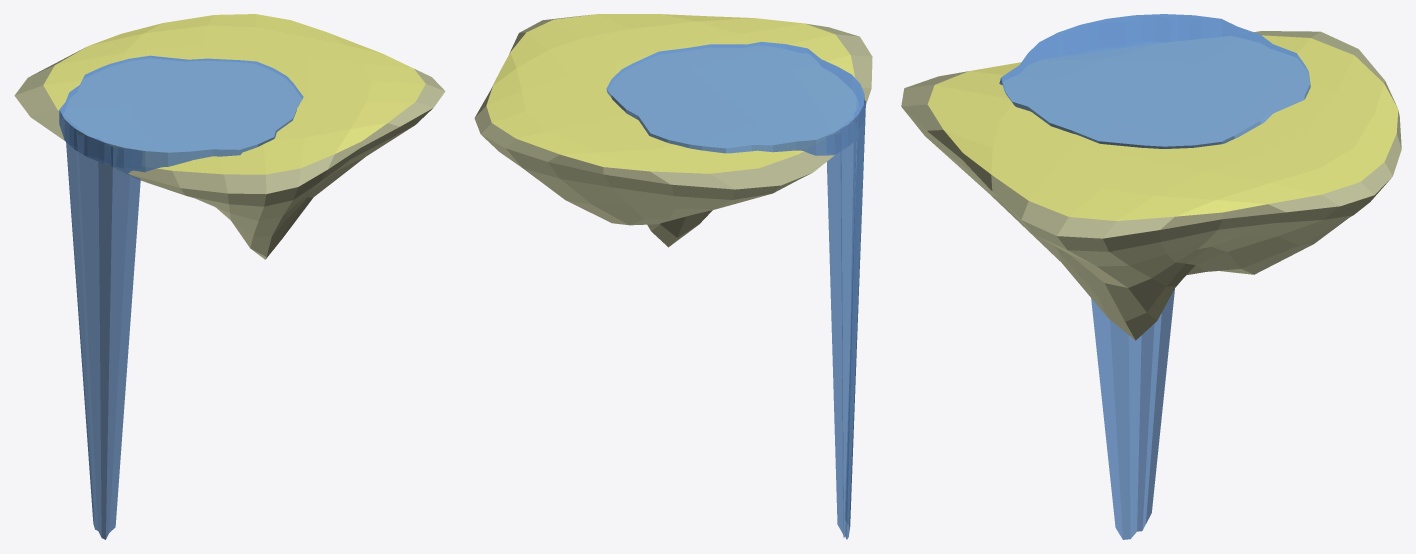
File: Island2.fbx
The picture shows the model from 3 angles, left to right: view 1: azimuth 30°, elevation 25°; view 2: azimuth 150°, elevation 25°; view 3: azimuth 270°, elevation 25°; orthographic projection. The views are drawn at different scales.
Parts seen in each view (by area): view 1: Island 2, Pond, Waterfall; view 2: Island 2, Pond, Waterfall; view 3: Island 2, Pond, Waterfall.
Boxes of the visible parts, x1,y1,x2,y2 form: Island 2: (14,14,445,259); Pond: (59,55,303,172); Waterfall: (64,123,140,539); Island 2: (474,14,872,247); Pond: (606,42,864,155); Waterfall: (827,99,865,539); Island 2: (901,31,1401,340); Pond: (999,14,1310,148); Waterfall: (1091,289,1174,539).
Bounding box in the file's own units: 690 × 785 × 690.
